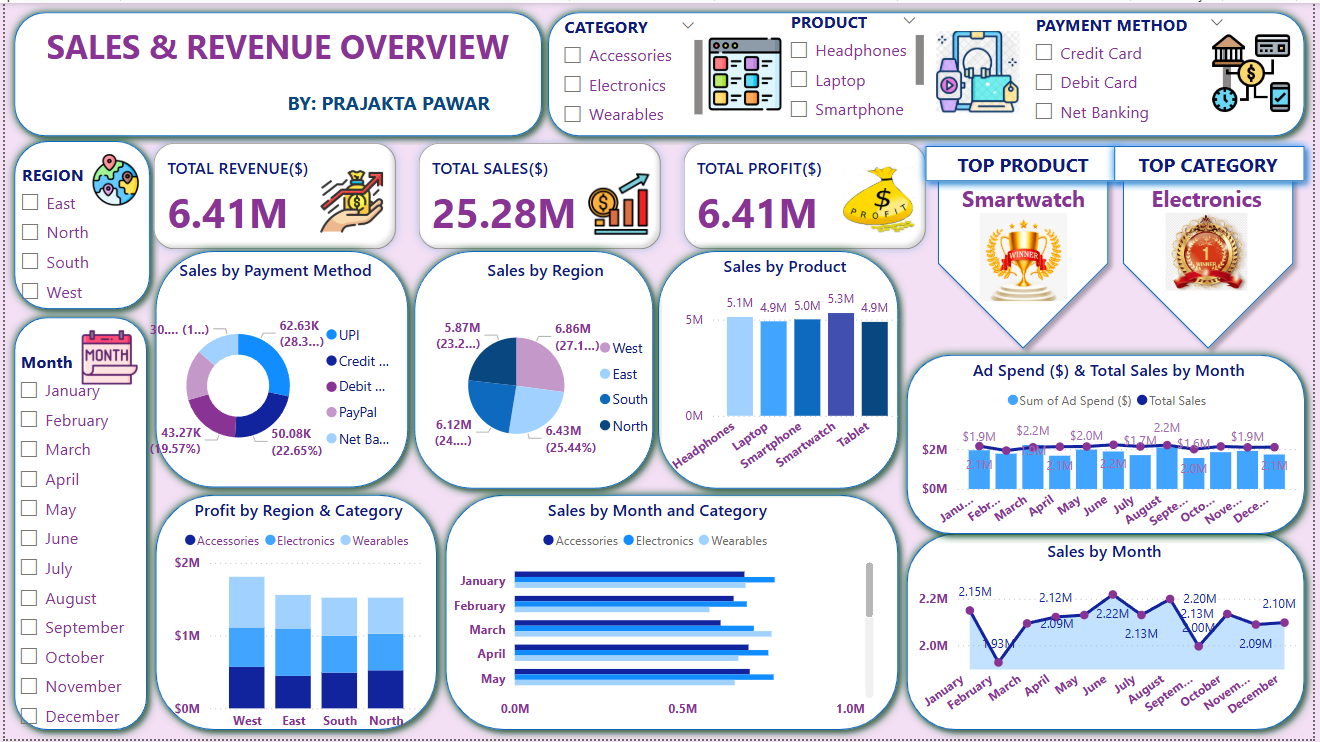

What the dashboard file says about the page in this screenshot:
{"tool":"powerbi","page":{"name":" Sales & Revenue Overview","canvas":[1280,720],"ordinal":3},"visuals":[{"type":"shape","box":[0,0,534.4,139.4],"z":0},{"type":"shape","box":[522.1,0,758.2,139.4],"z":1000},{"type":"shape","box":[0,126.2,150.9,182.5],"z":2000},{"type":"cardVisual","fields":{"Data":["updated_sales_data.Total Revenue","updated_sales_data.Total Sales","updated_customer_data.Total Profit"]},"box":[129.6,121.1,788.7,137],"z":3000},{"type":"shape","box":[903.7,151.6,184.6,195.7],"z":4000},{"type":"shape","title":"TOP PRODUCT","box":[891.4,130.8,206.7,52.6],"z":5000},{"type":"shape","box":[0,298.4,148,421.9],"z":6000},{"type":"shape","box":[138.2,472,293.5,248.2],"z":7000},{"type":"shape","box":[421.9,472,461,248.2],"z":8000},{"type":"shape","box":[873.1,509.9,407.2,210.3],"z":9000},{"type":"shape","box":[872.7,334.8,407.5,193.5],"z":10000},{"type":"shape","box":[138.2,233.6,265.4,249.5],"z":11000},{"type":"shape","box":[629.8,233.6,253.1,250.7],"z":12000},{"type":"shape","box":[391.3,233.6,251.9,250.7],"z":13000},{"type":"lineChart","title":"Sales by Month","fields":{"Y":["updated_sales_data.Total Sales"],"Category":["updated_sales_data.Date.Variation.Date Hierarchy.Month"]},"box":[882.9,524.6,385.2,184.6],"z":14000},{"type":"lineClusteredColumnComboChart","title":"Ad Spend ($) & Total Sales by Month","fields":{"Category":["updated_sales_data.Date.Variation.Date Hierarchy.Month"],"Y":["Sum(updated_marketing_data.Ad Spend ($))"],"Y2":["updated_sales_data.Total Sales"]},"box":[891.4,347.3,376.6,177.3],"z":15000},{"type":"clusteredBarChart","title":"Sales by Month and Category","fields":{"Category":["updated_sales_data.Date.Variation.Date Hierarchy.Month"],"Y":["updated_sales_data.Total Sales"],"Series":["updated_sales_data.Category"]},"box":[421.9,484.2,432.9,225],"z":16000},{"type":"pieChart","title":"Sales by Region","fields":{"Category":["updated_sales_data.Region"],"Y":["updated_sales_data.Total Sales"]},"box":[414.5,249.5,228.7,228.7],"z":17000},{"type":"donutChart","title":"Sales by Payment Method","fields":{"Y":["updated_sales_data.Total Sales"],"Category":["updated_sales_data.Payment Method"]},"box":[138.2,249.5,253.1,228.7],"z":18000},{"type":"columnChart","title":" Profit by Region  &      Category","fields":{"Category":["updated_sales_data.Region"],"Y":["Sum(updated_sales_data.Profit)"],"Series":["updated_sales_data.Category"]},"box":[160.2,484.2,254.3,236],"z":19000},{"type":"clusteredColumnChart","title":"Sales by Product","fields":{"Category":["updated_sales_data.Product","updated_sales_data.Category"],"Y":["updated_sales_data.Total Sales"]},"box":[643.2,245.8,239.7,226.2],"z":20000},{"type":"slicer","fields":{"Values":["updated_sales_data.Date.Variation.Date Hierarchy.Month"]},"box":[2.4,335.1,135.7,385.2],"z":21000},{"type":"slicer","fields":{"Values":["updated_sales_data.Region"]},"box":[3.7,151.6,124.7,159],"z":22000},{"type":"slicer","fields":{"Values":["updated_sales_data.Category"]},"box":[534.4,7.3,152.9,118.6],"z":23000},{"type":"slicer","fields":{"Values":["updated_sales_data.Product"]},"box":[755.7,2.4,148,118.6],"z":24000},{"type":"slicer","fields":{"Values":["updated_sales_data.Payment Method"]},"box":[995.4,4.9,209.1,122.3],"z":25000},{"type":"cardVisual","fields":{"Data":["updated_sales_data.TOP PRODUCT"]},"box":[918.3,151.6,156.5,145.5],"z":26000},{"type":"shape","box":[1084.7,151.6,184.6,195.7],"z":27000},{"type":"shape","box":[1076.1,130.8,204.2,52.6],"z":28000},{"type":"textbox","box":[25.7,15.9,481.8,73.4],"z":29000},{"type":"textbox","box":[271.7,79.6,299.1,50.8],"z":30000},{"type":"cardVisual","fields":{"Data":["updated_sales_data.TOP CATEGORY"]},"box":[1083.4,151.6,184.6,166.3],"z":31000},{"type":"image","box":[683.6,14.7,80.7,108.8],"z":32000},{"type":"image","box":[1175.1,15.9,88,105.2],"z":33000},{"type":"image","box":[906.1,12.2,91.7,114.9],"z":34000},{"type":"textbox","box":[912.2,140.6,167.5,46.5],"z":35000},{"type":"textbox","box":[1085.9,140.6,182.2,47.7],"z":36000},{"type":"image","box":[66,314.3,72.1,64.8],"z":37000},{"type":"image","box":[78.3,140.6,59.9,64.8],"z":38000}]}

Visuals, with their boxes in screenshot pixels (x1, y1, x2, y2), scaled from the page's 1280x720 canvas onto the 1320x742 screenshot:
shape: select_region(0, 0, 551, 144)
shape: select_region(538, 0, 1319, 144)
shape: select_region(0, 130, 156, 318)
cardVisual - updated_sales_data.Total Revenue x updated_sales_data.Total Sales: select_region(134, 125, 947, 266)
shape: select_region(932, 156, 1122, 358)
"TOP PRODUCT" shape: select_region(919, 135, 1132, 189)
shape: select_region(0, 308, 153, 741)
shape: select_region(143, 486, 445, 741)
shape: select_region(435, 486, 910, 741)
shape: select_region(900, 525, 1319, 741)
shape: select_region(900, 345, 1319, 544)
shape: select_region(143, 241, 416, 498)
shape: select_region(649, 241, 910, 499)
shape: select_region(404, 241, 663, 499)
"Sales by Month" lineChart: select_region(910, 541, 1308, 731)
"Ad Spend ($) & Total Sales by Month" lineClusteredColumnComboChart: select_region(919, 358, 1308, 541)
"Sales by Month and Category" clusteredBarChart: select_region(435, 499, 882, 731)
"Sales by Region" pieChart: select_region(427, 257, 663, 493)
"Sales by Payment Method" donutChart: select_region(143, 257, 404, 493)
" Profit by Region  &      Category" columnChart: select_region(165, 499, 427, 741)
"Sales by Product" clusteredColumnChart: select_region(663, 253, 910, 486)
slicer - updated_sales_data.Date.Variation.Date Hierarchy.Month: select_region(2, 345, 142, 741)
slicer - updated_sales_data.Region: select_region(4, 156, 132, 320)
slicer - updated_sales_data.Category: select_region(551, 8, 709, 130)
slicer - updated_sales_data.Product: select_region(779, 2, 932, 125)
slicer - updated_sales_data.Payment Method: select_region(1027, 5, 1242, 131)
cardVisual - updated_sales_data.TOP PRODUCT: select_region(947, 156, 1108, 306)
shape: select_region(1119, 156, 1309, 358)
shape: select_region(1110, 135, 1319, 189)
textbox: select_region(27, 16, 523, 92)
textbox: select_region(280, 82, 589, 134)
cardVisual - updated_sales_data.TOP CATEGORY: select_region(1117, 156, 1308, 328)
image: select_region(705, 15, 788, 127)
image: select_region(1212, 16, 1303, 125)
image: select_region(934, 13, 1029, 131)
textbox: select_region(941, 145, 1113, 193)
textbox: select_region(1120, 145, 1308, 194)
image: select_region(68, 324, 142, 391)
image: select_region(81, 145, 143, 212)
